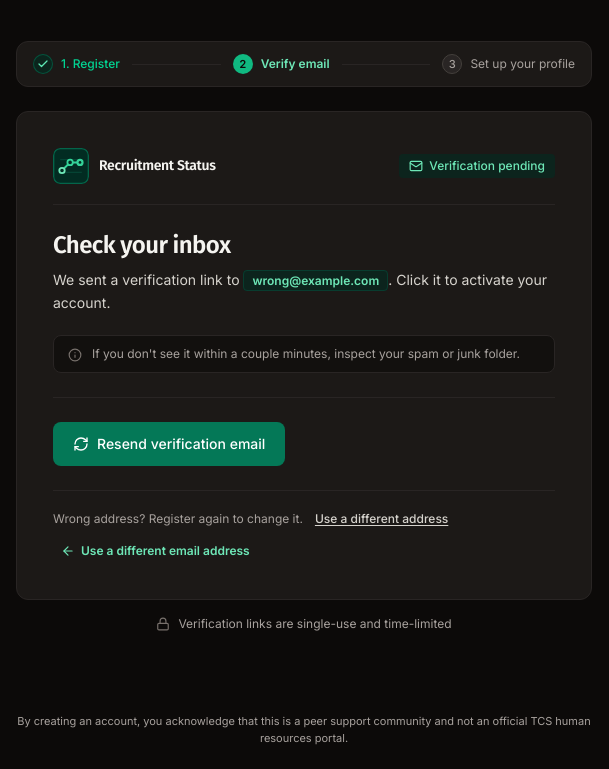
Test: VerifyEmailPendingPage › reveals the correction field on demand and resends to the edited address
Click the button "Use a different address" at (382, 519), box [315,511,448,527]
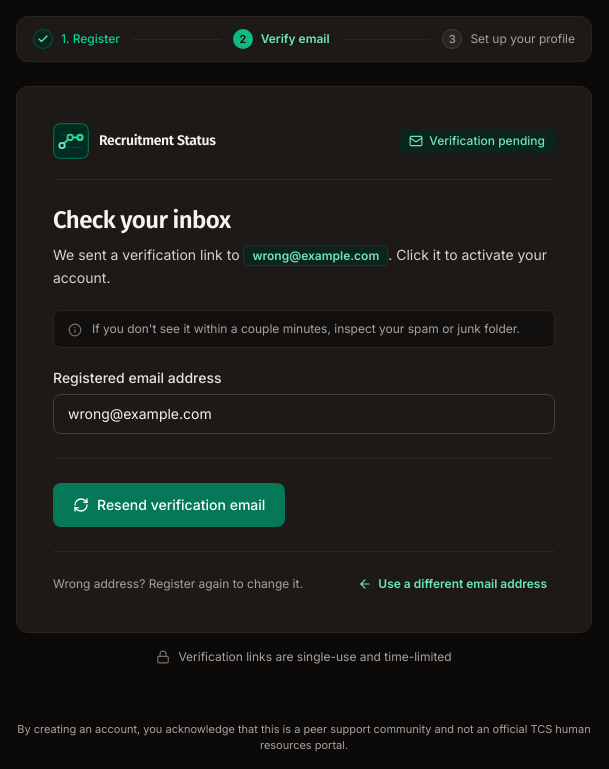
Clear the field labelled "Registered email address" at (304, 414), box [53,394,555,434]
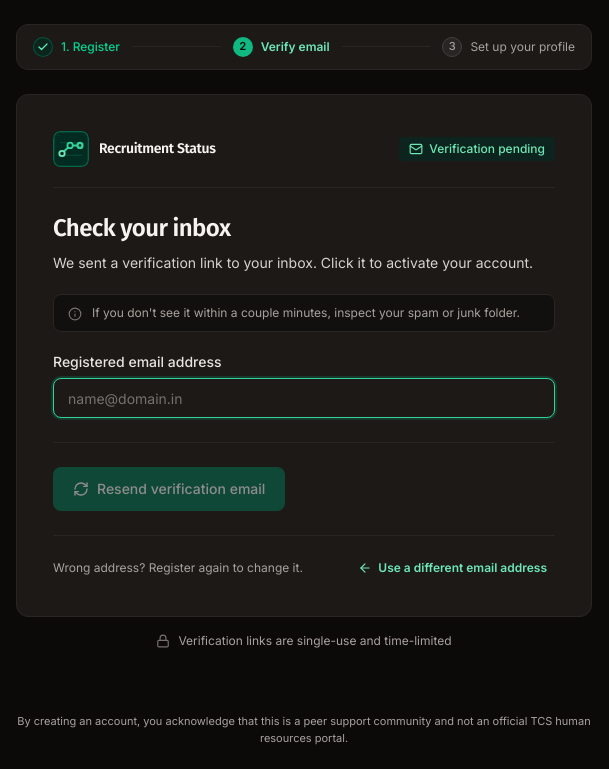
Type "right@example.com" into the field labelled "Registered email address" at (304, 398), box [53,378,555,418]
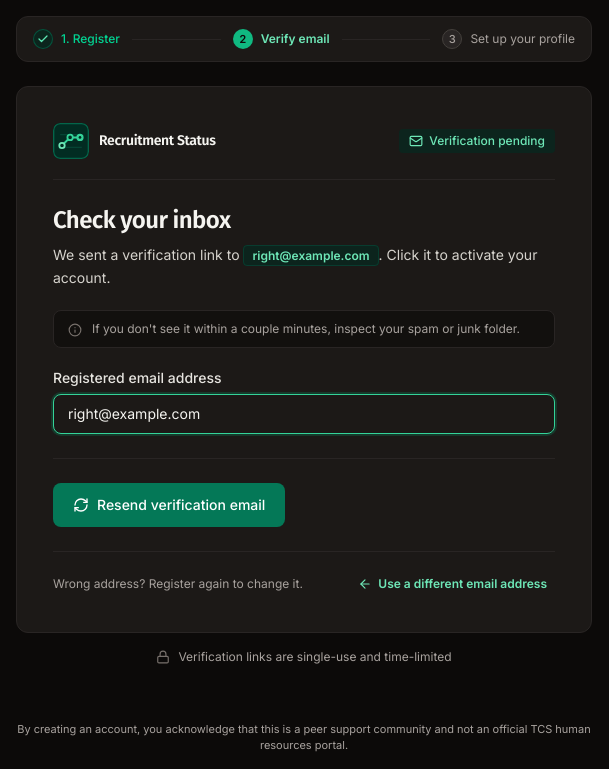
Click the button "Resend verification email" at (169, 504), box [53,482,285,526]
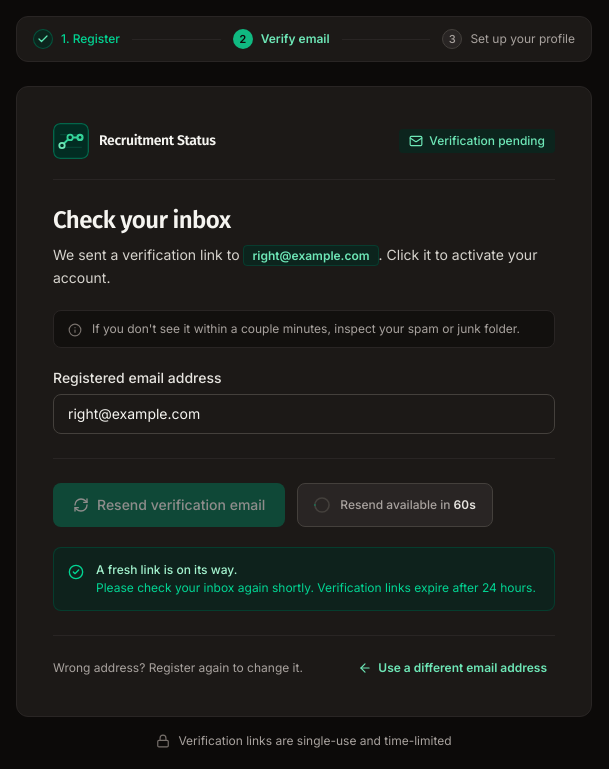
Check: the message shows "A fresh link is on its way.", box [96,562,237,576]
Check: the button "Resend available in 60s" is disabled, box [297,482,493,526]
